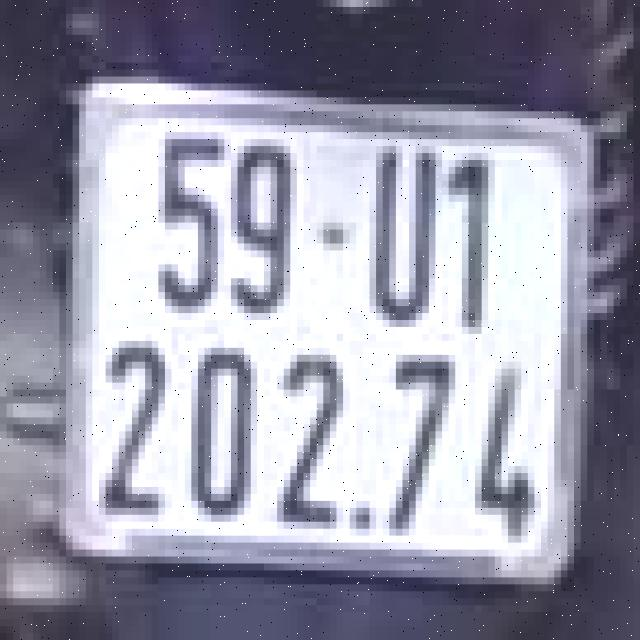0: (188, 341, 261, 522)
1: (446, 139, 512, 334)
2: (267, 331, 353, 539), (92, 334, 178, 529)
4: (475, 351, 554, 553)
5: (148, 136, 234, 324)
7: (379, 344, 458, 546)
9: (224, 128, 310, 324)
U: (370, 136, 442, 337)
